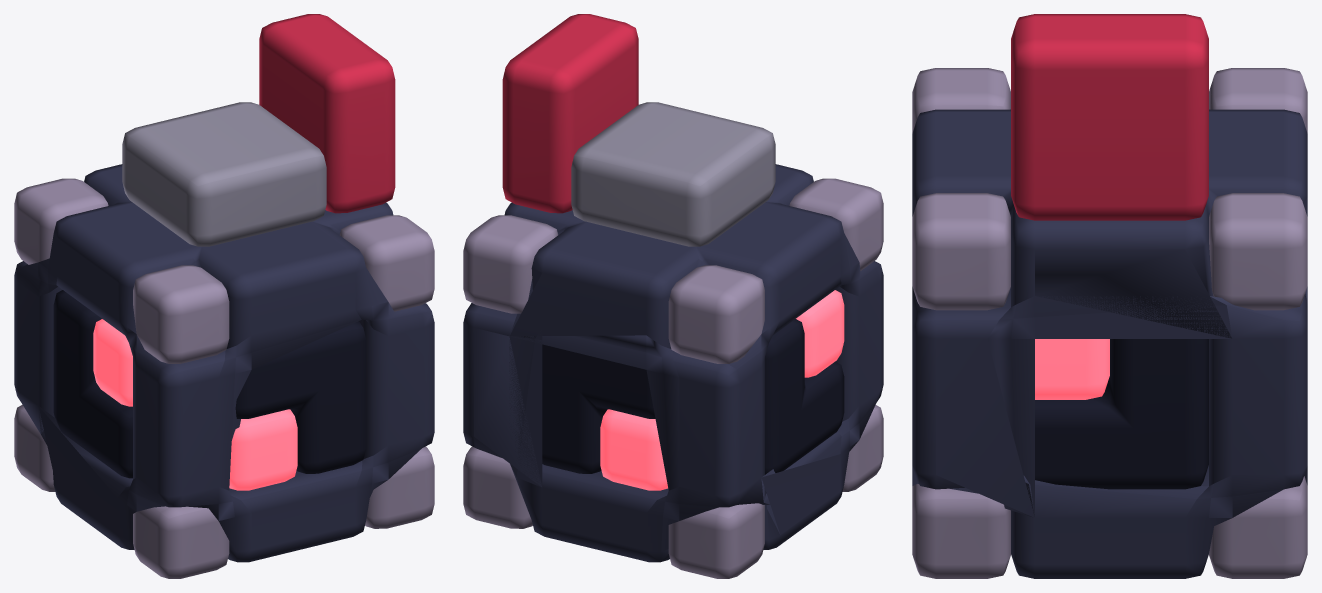
The model's file is grenade.glb.
3 views of the same model, side by side, from view 1: azimuth 30°, elevation 25°; view 2: azimuth 150°, elevation 25°; view 3: azimuth 270°, elevation 25° (orthographic). The views are drawn at different scales.
Visible parts, largest first — view 1: grenade.body, part.pin; view 2: grenade.body, part.pin; view 3: grenade.body, part.pin.
Boxes of the visible parts, x1,y1,x2,y2 form: grenade.body: [14, 164, 434, 578]; part.pin: [122, 14, 395, 246]; grenade.body: [463, 164, 883, 578]; part.pin: [502, 14, 775, 246]; grenade.body: [912, 68, 1307, 578]; part.pin: [1011, 14, 1208, 220].
Size of the model in its own units: 0.125 by 0.1875 by 0.125.
